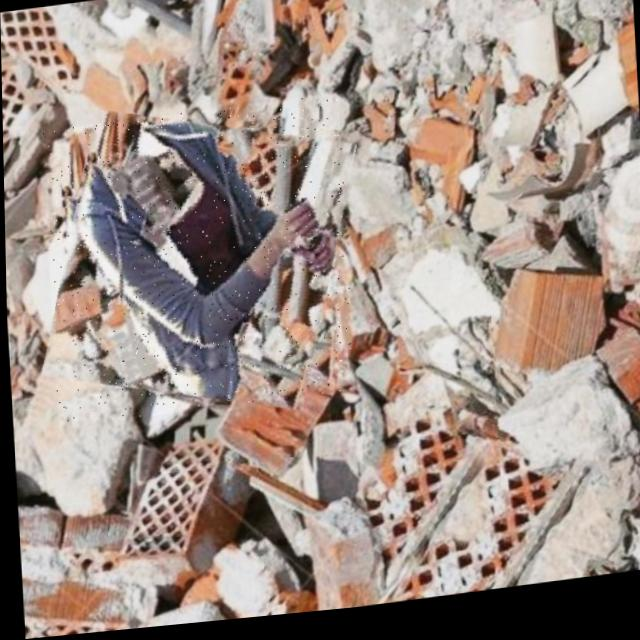Person in Rubble: (41, 97, 353, 429)
